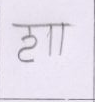aa_matra: (60, 25, 64, 57)
